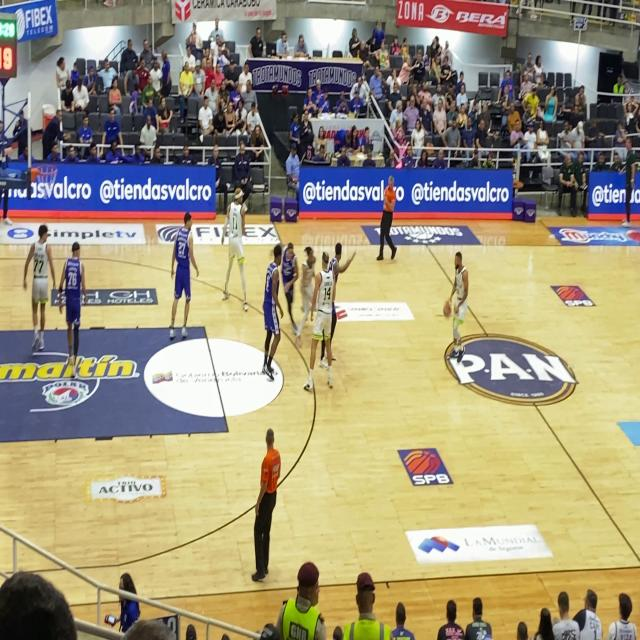Ball: (441, 294, 453, 323)
referee: (247, 412, 279, 595), (376, 172, 397, 274)
team1: (215, 178, 253, 326), (20, 215, 58, 363), (304, 245, 333, 398), (444, 240, 471, 369)
team2: (252, 236, 286, 391), (55, 233, 92, 372), (168, 196, 201, 348)
ubasket: (36, 158, 60, 204)
